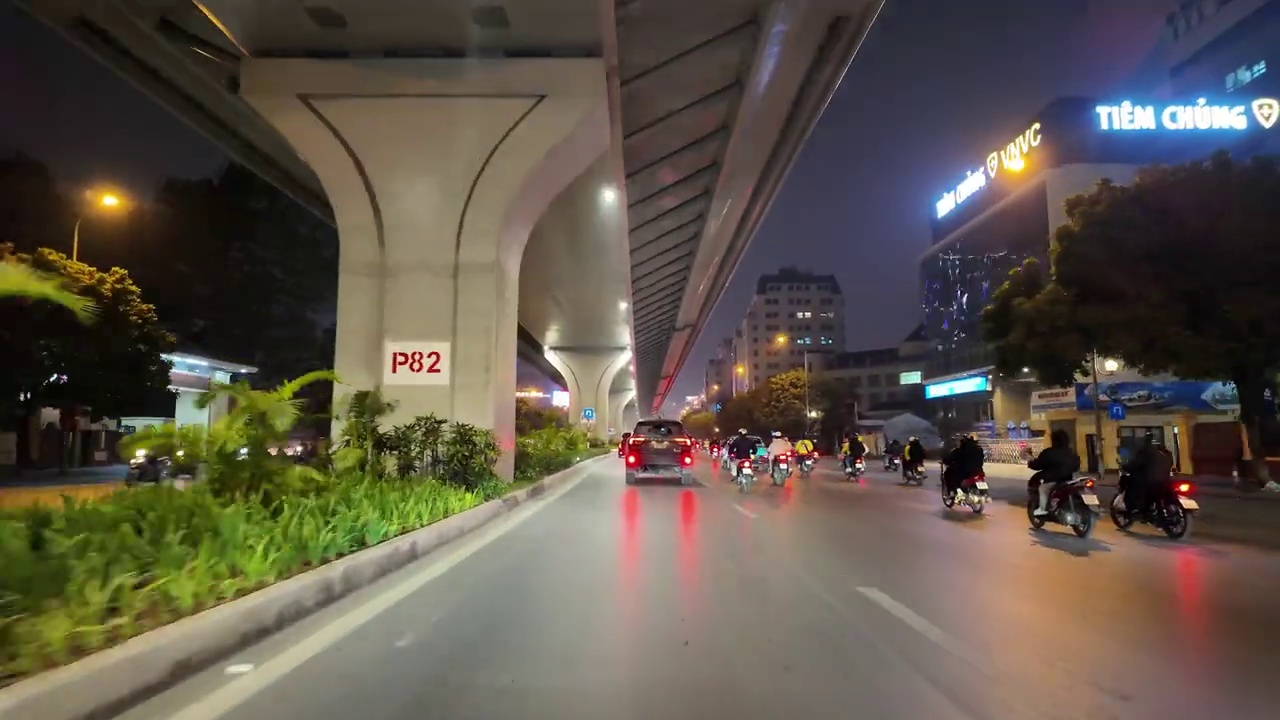acesa: (993, 144, 1040, 185), (89, 187, 130, 219), (596, 186, 623, 215)
